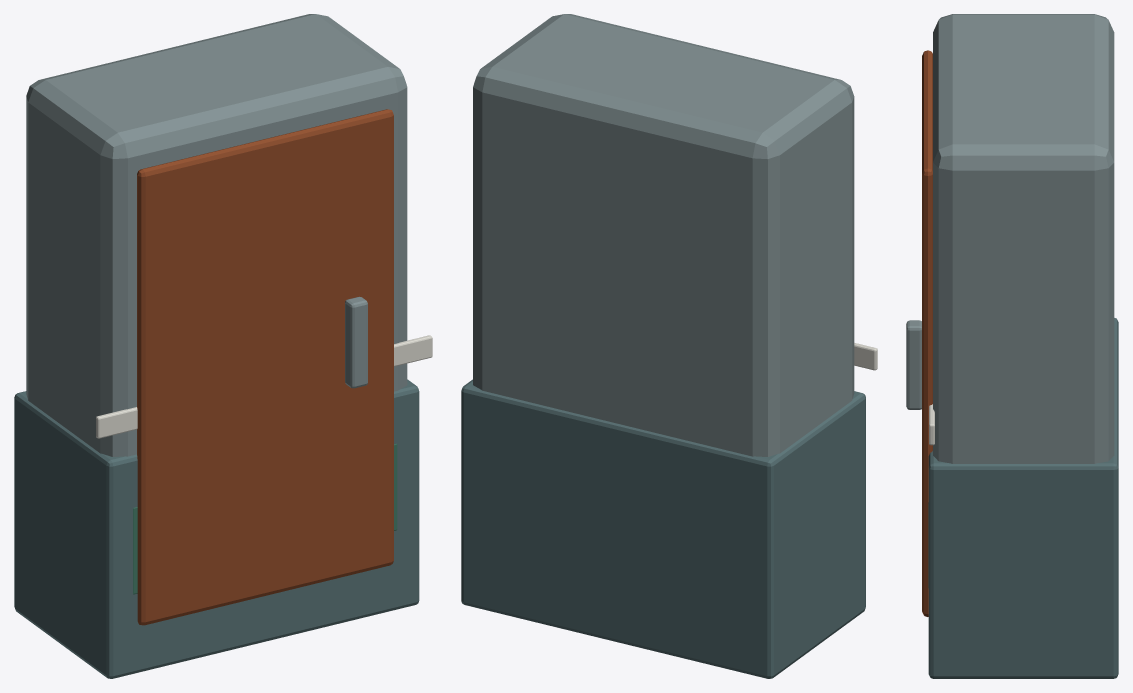
Rendered from SM_FC01_Prop_UtilityCabinet_A.fbx.
The picture shows the model from 3 angles, left to right: view 1: azimuth 30°, elevation 25°; view 2: azimuth 150°, elevation 25°; view 3: azimuth 270°, elevation 25°; orthographic projection.
Parts seen in each view (by area): view 1: SM_FC01_Prop_UtilityCabinet_A_Door, SM_FC01_Prop_UtilityCabinet_A_Body, SM_FC01_Prop_UtilityCabinet_A_WetBand, SM_FC01_Prop_UtilityCabinet_A_Handle, SM_FC01_Prop_UtilityCabinet_A_Salt_00, SM_FC01_Prop_UtilityCabinet_A_Salt_01, SM_FC01_Prop_UtilityCabinet_A_AlgaeBand; view 2: SM_FC01_Prop_UtilityCabinet_A_Body, SM_FC01_Prop_UtilityCabinet_A_WetBand; view 3: SM_FC01_Prop_UtilityCabinet_A_Body, SM_FC01_Prop_UtilityCabinet_A_WetBand, SM_FC01_Prop_UtilityCabinet_A_Door, SM_FC01_Prop_UtilityCabinet_A_Handle.
Boxes of the visible parts, bbox=[...] form: SM_FC01_Prop_UtilityCabinet_A_Door: bbox=[137, 109, 393, 625]; SM_FC01_Prop_UtilityCabinet_A_Body: bbox=[26, 14, 407, 456]; SM_FC01_Prop_UtilityCabinet_A_WetBand: bbox=[14, 379, 419, 678]; SM_FC01_Prop_UtilityCabinet_A_Handle: bbox=[345, 296, 367, 388]; SM_FC01_Prop_UtilityCabinet_A_Salt_00: bbox=[96, 407, 137, 438]; SM_FC01_Prop_UtilityCabinet_A_Salt_01: bbox=[394, 335, 432, 366]; SM_FC01_Prop_UtilityCabinet_A_AlgaeBand: bbox=[133, 443, 397, 594]; SM_FC01_Prop_UtilityCabinet_A_Body: bbox=[473, 14, 854, 456]; SM_FC01_Prop_UtilityCabinet_A_WetBand: bbox=[461, 379, 865, 678]; SM_FC01_Prop_UtilityCabinet_A_Body: bbox=[933, 14, 1114, 463]; SM_FC01_Prop_UtilityCabinet_A_WetBand: bbox=[928, 318, 1118, 678]; SM_FC01_Prop_UtilityCabinet_A_Door: bbox=[922, 50, 932, 616]; SM_FC01_Prop_UtilityCabinet_A_Handle: bbox=[906, 320, 921, 409].
Size of the model in its own units: 1.15 by 1.76 by 0.6425.
